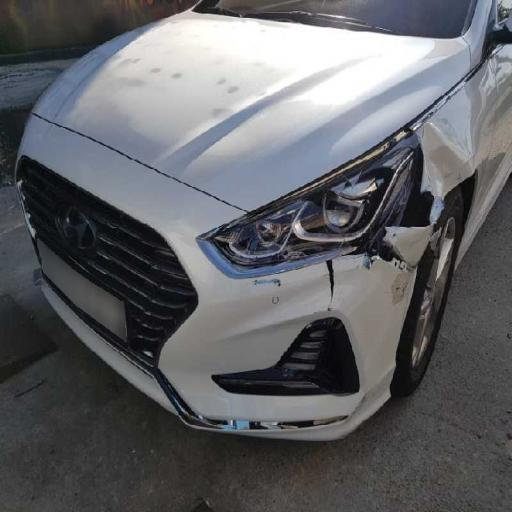broken: (267, 147, 464, 332)
